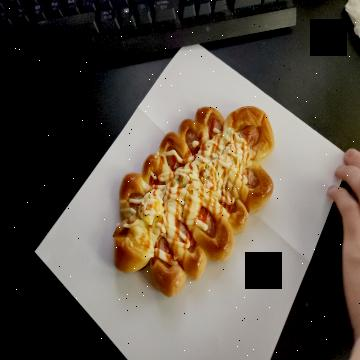pizza_bread: (112, 105, 276, 299)
